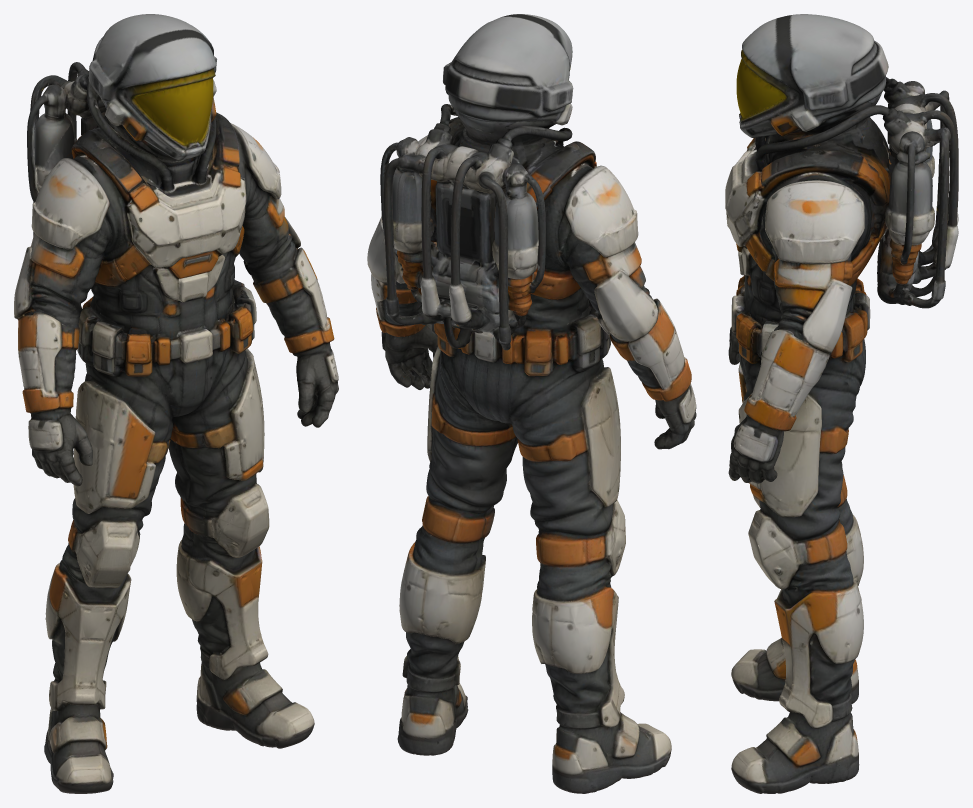
The model's file is astro.glb.
3 renders of one model, left to right at view 1: azimuth 30°, elevation 25°; view 2: azimuth 150°, elevation 25°; view 3: azimuth 270°, elevation 25°, orthographic. The views are drawn at different scales.
Size of the model in its own units: 0.8312 by 1.9 by 0.5625.
Materials: 1 (1 with a texture image).
